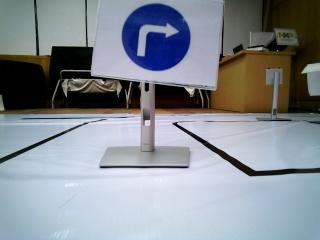right: (118, 0, 214, 90)
